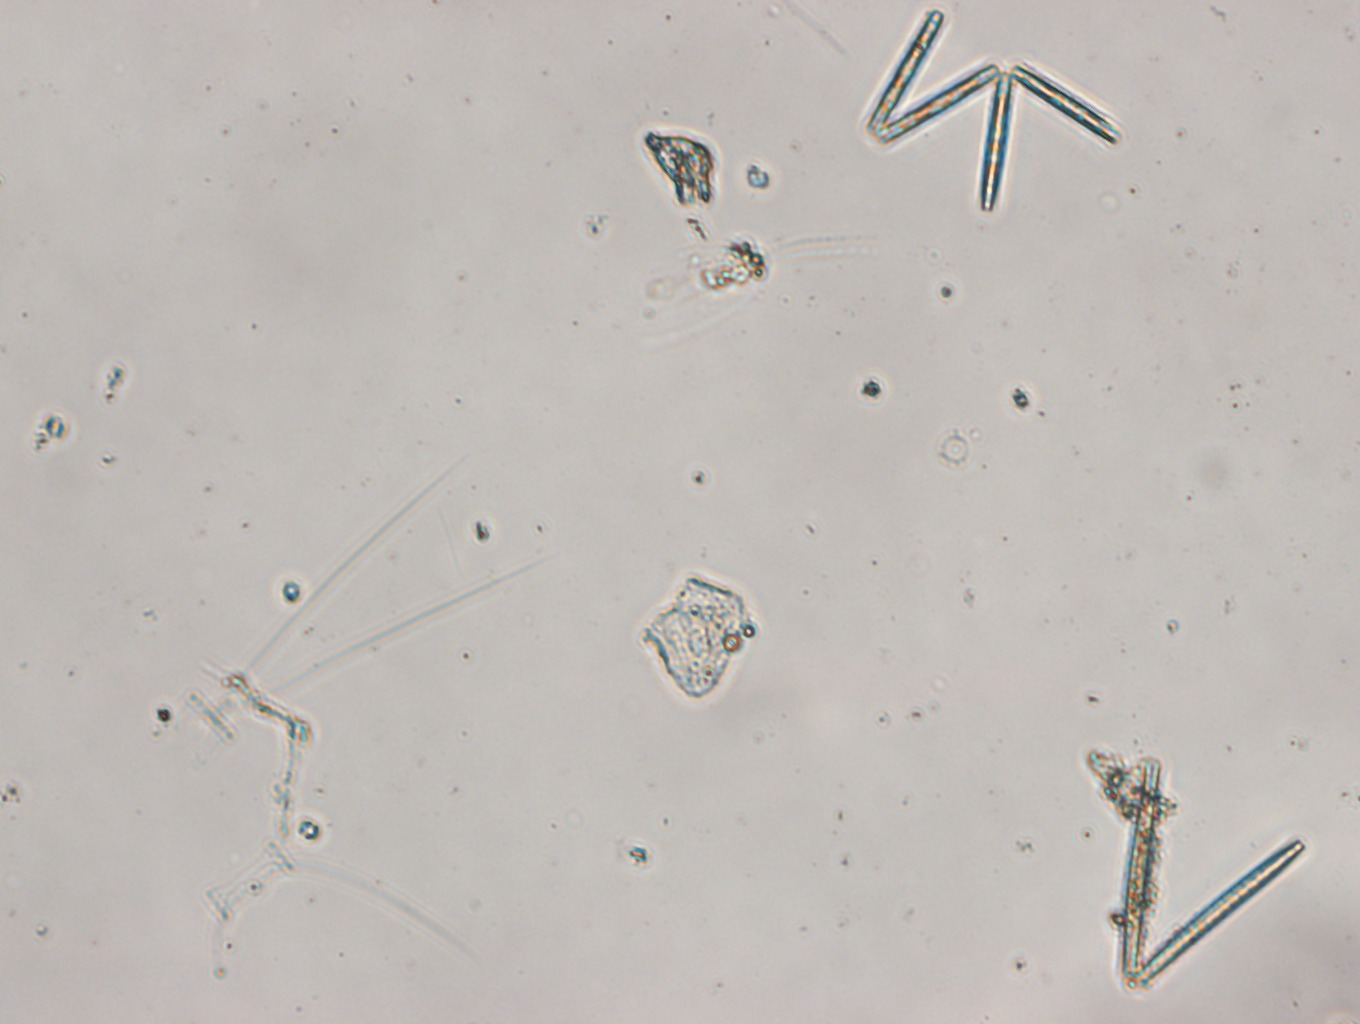thalassionema nitzschioides: (864, 10, 1120, 211), (1114, 760, 1306, 987)
